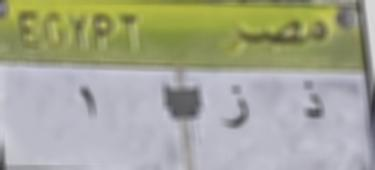1: (76, 81, 104, 122)
zaal: (292, 80, 329, 124)
zay: (218, 83, 254, 138)
